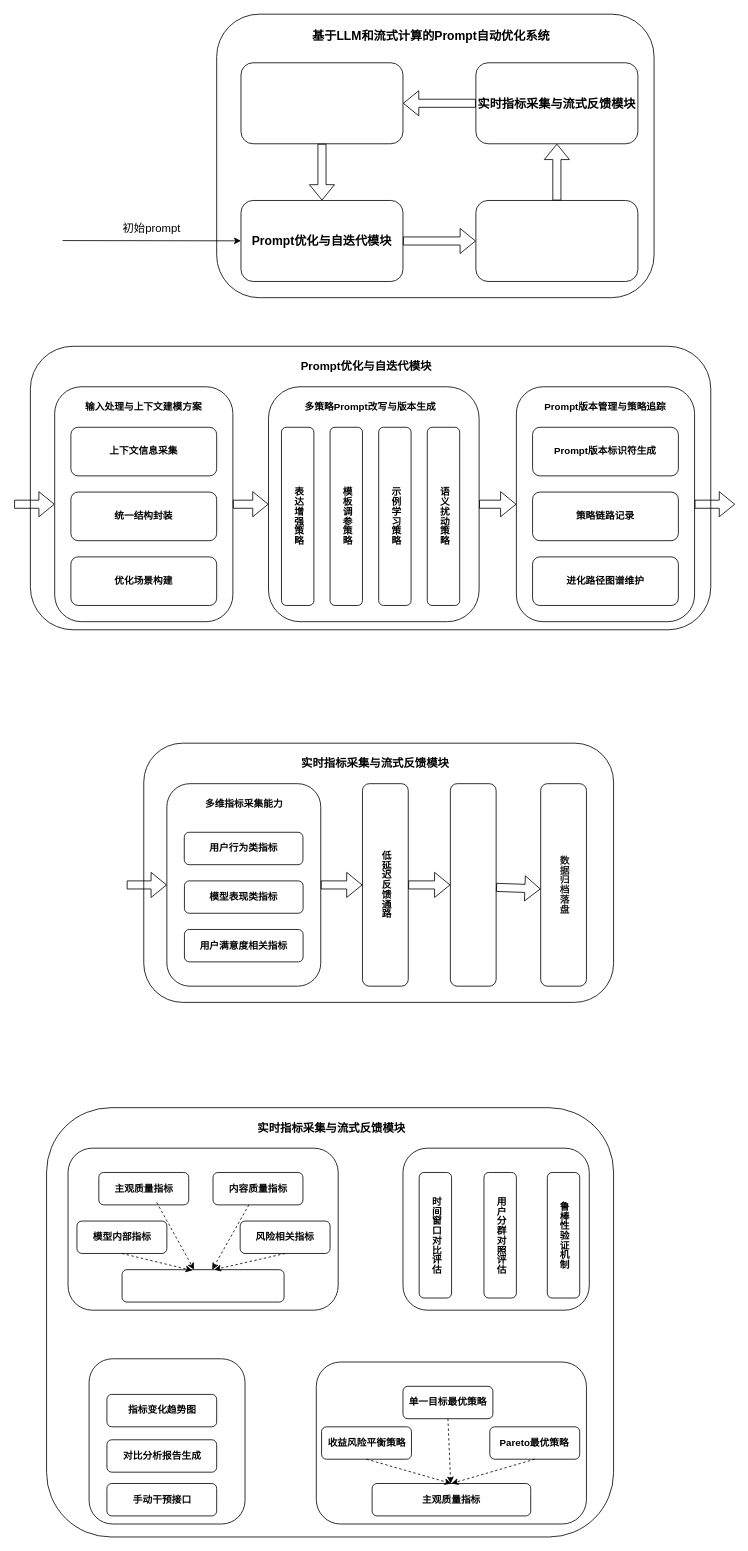
This 748x1551 diagram has some shape labels left out. Here are the shapes that lost their labels. From the top down, the box of each, then its label:
(240, 62, 403, 144): Prompt评估与优选模块
(475, 200, 638, 281): 灰度部署与分流模块
(450, 783, 496, 986): 数据预处理与异常剔除
(121, 1269, 284, 1302): 综合指标得分
